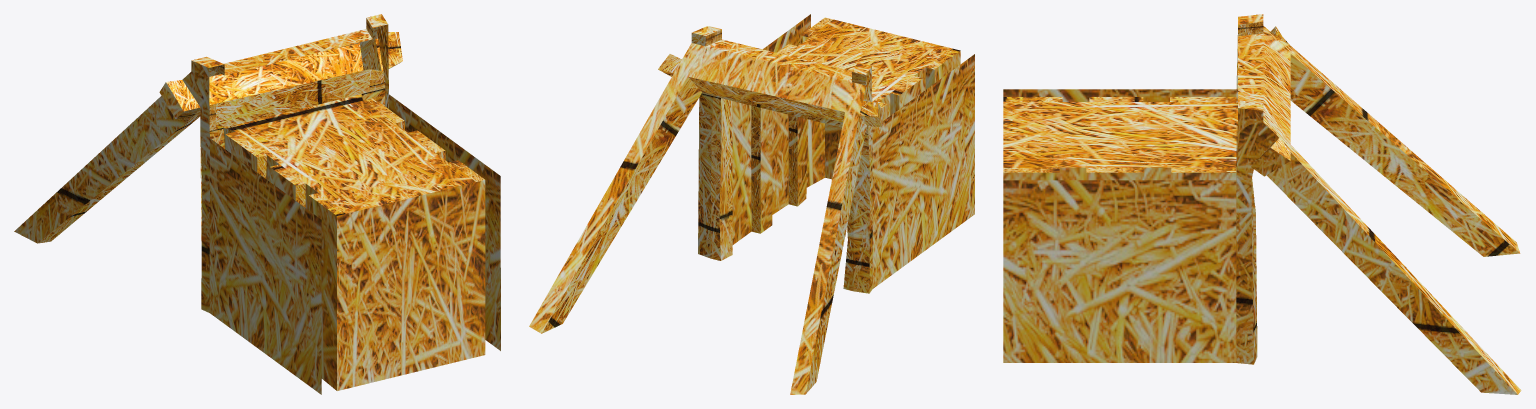
Rendered from MineEntrance 1.fbx.
3 views of the same model, side by side, from view 1: azimuth 30°, elevation 25°; view 2: azimuth 150°, elevation 25°; view 3: azimuth 270°, elevation 25° (orthographic). The views are drawn at different scales.
Parts seen in each view (by area): view 1: MineEntrance; view 2: MineEntrance; view 3: MineEntrance.
Boxes of the visible parts, x1,y1,x2,y2 form: MineEntrance: [14, 14, 500, 394]; MineEntrance: [529, 14, 974, 394]; MineEntrance: [1003, 14, 1521, 394].
Size of the model in its own units: 5.31 by 4.21 by 7.58.
